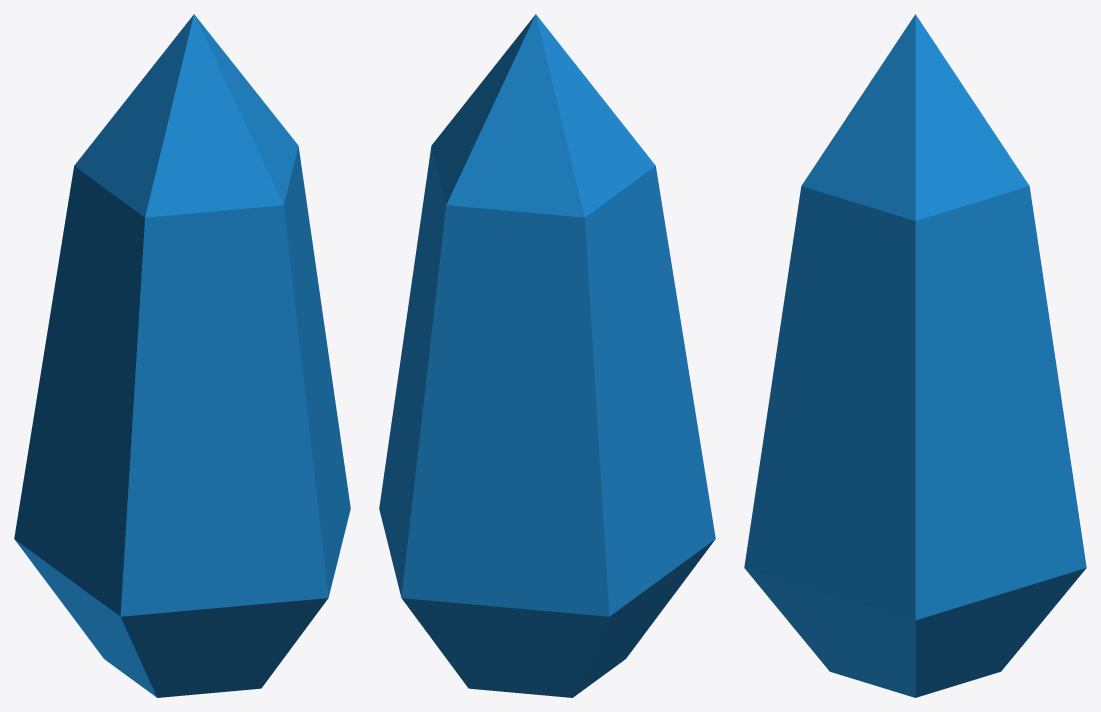
The model's file is C17_Cristal_Licenca.obj.
3 renders of one model, left to right at view 1: azimuth 30°, elevation 25°; view 2: azimuth 150°, elevation 25°; view 3: azimuth 270°, elevation 25°, orthographic.
Parts seen in each view (by area): view 1: C17_Cristal_Licenca; view 2: C17_Cristal_Licenca; view 3: C17_Cristal_Licenca.
Part boxes in pixels (x1=…): C17_Cristal_Licenca: x1=14, y1=14, x2=350, y2=697; C17_Cristal_Licenca: x1=379, y1=14, x2=715, y2=697; C17_Cristal_Licenca: x1=744, y1=14, x2=1086, y2=697.
Size of the model in its own units: 0.4342 by 0.95 by 0.4565.
